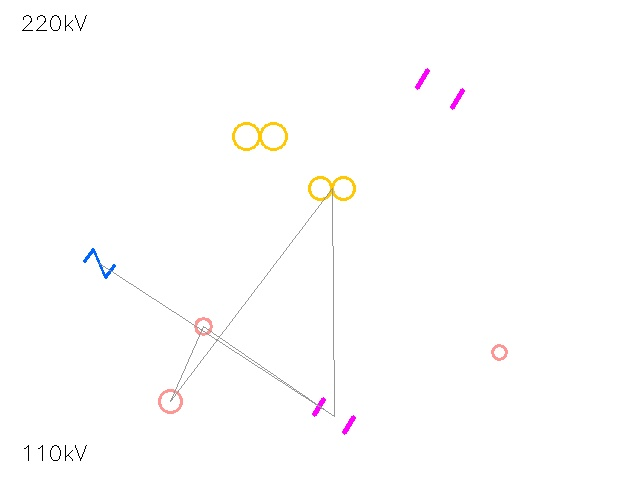capacitor: (406, 55, 474, 123), (305, 387, 363, 445)
circuit_breaker: (84, 248, 114, 278)
current_transformer: (148, 379, 192, 423)
feeder_terminal: (187, 310, 219, 342)
reactor: (484, 337, 514, 367)
transformer_2w: (226, 102, 294, 170), (304, 160, 360, 216)
